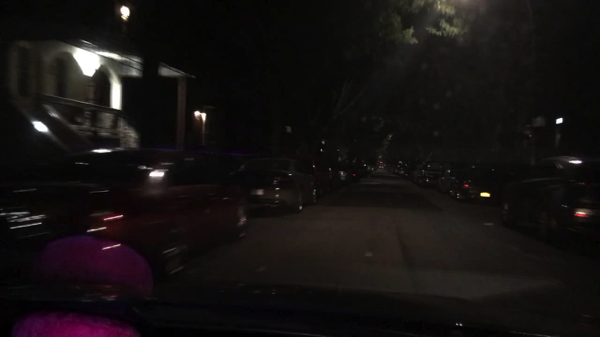car: (49, 147, 248, 282), (499, 152, 599, 247), (1, 175, 51, 286), (231, 155, 318, 216), (277, 154, 330, 197), (451, 168, 500, 204), (421, 162, 455, 189), (430, 167, 463, 194), (330, 164, 347, 191), (411, 161, 430, 185), (397, 163, 413, 178), (345, 168, 359, 184), (356, 166, 366, 175), (391, 165, 401, 174), (376, 163, 385, 169), (367, 167, 374, 173)
traffic sign: (531, 116, 544, 128), (284, 126, 293, 134)
